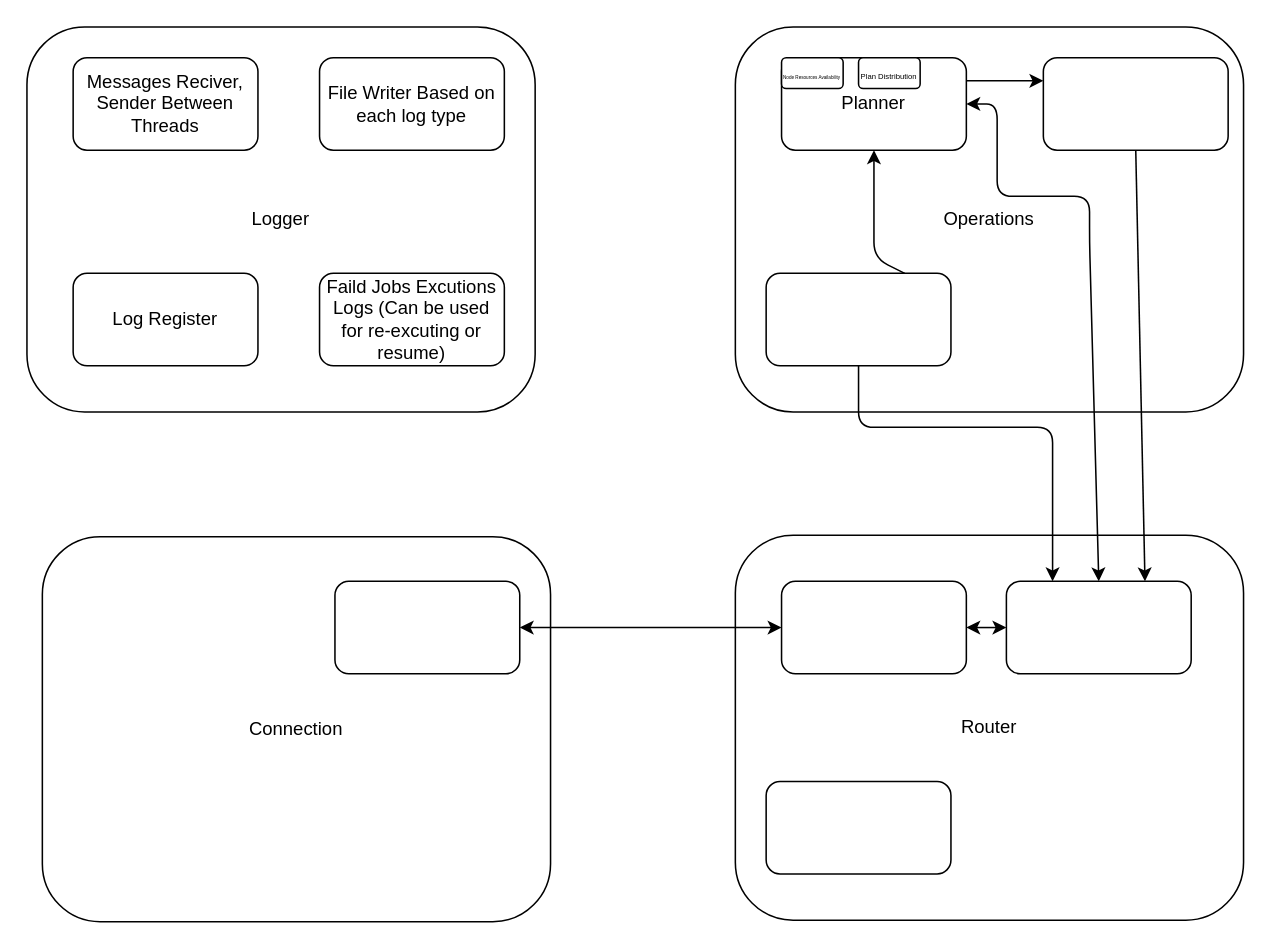
The diagram is 1271 pixels wide and 949 high, and some of its shapes have lost their labels. The shapes that lost their labels are listed below. From the top down, each one's centre as x and y in pixels, then its label:
pixel 1135 103: Executer
pixel 858 319: Check for available faild work
pixel 426 627: Nodes Information such as Hardware usage and IP...etc
pixel 873 627: External Communication
pixel 1098 627: Internal Communication
pixel 858 827: Rest API
